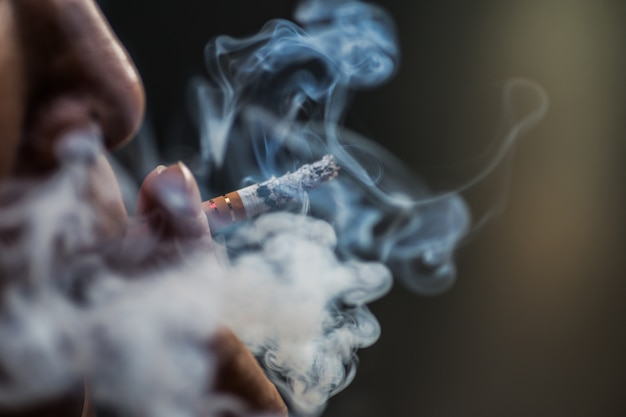cigarette: (51, 156, 344, 275)
